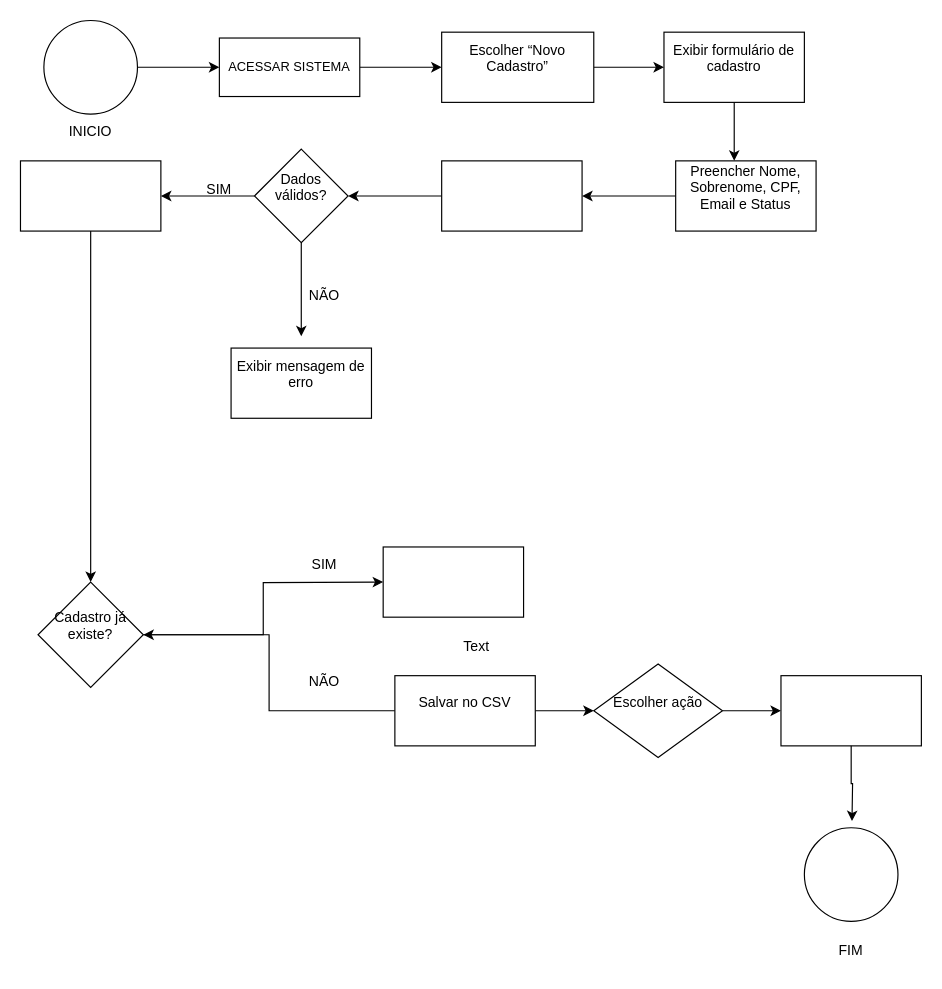
The diagram is 942 pixels wide and 989 high, and some of its shapes have lost their labels. The centre of each missing label's shape, as x and y in pixels:
Exportar dados: point 850,710
Informar cadastro existente: point 453,581
VALIDAR DADOS: point 511,195
Verificar dados existente: point 90,195
